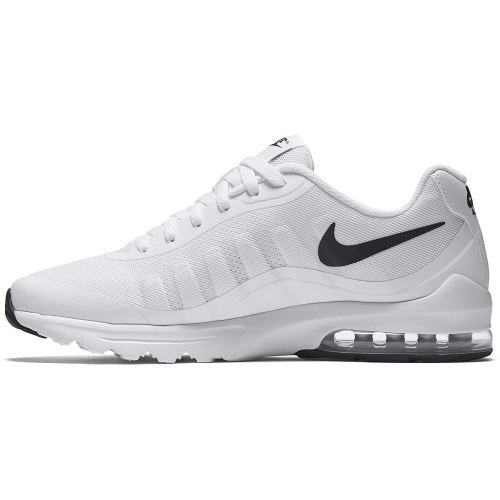nike: (314, 215, 449, 271)
